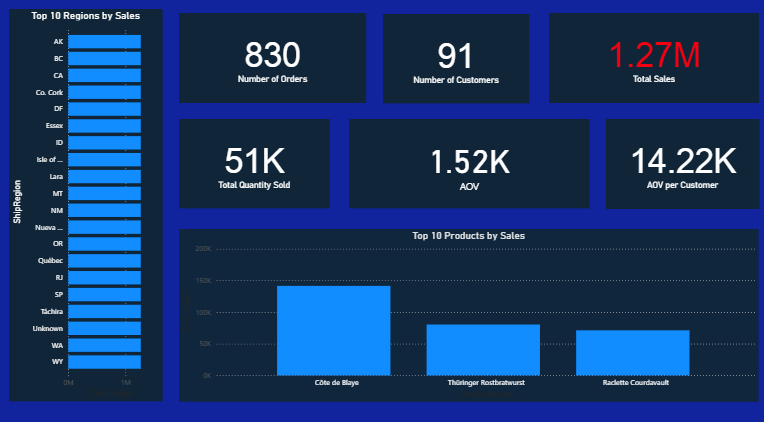

This screenshot's page, from the dashboard's own definition file:
{"tool":"powerbi","page":{"name":"KPIs","canvas":[1280,720],"ordinal":0},"visuals":[{"type":"card","fields":{"Values":["OrdersDetails.Total Sales"]},"box":[916.6,30.2,349.9,149.6],"z":0},{"type":"card","fields":{"Values":["Orders.Total Quantity Sold"]},"box":[300.3,206.6,251.2,148.7],"z":1000},{"type":"card","fields":{"Values":["Orders.Average Order Value"]},"box":[1010.9,206.6,255.7,150.2],"z":2000},{"type":"card","fields":{"Values":["Orders.Sales %"]},"box":[640.7,31.2,243.8,148.7],"z":3000},{"type":"card","fields":{"Values":["Orders.Estimated Profit"]},"box":[300.3,29.7,312.2,150.2],"z":4000},{"type":"clusteredColumnChart","title":"Top 10 Products by Sales","fields":{"Category":["Product.ProductName"],"Y":["OrdersDetails.Total Sales"]},"box":[300,390,966,288],"z":5000},{"type":"barChart","title":"Top 10 Regions by Sales","fields":{"Category":["Orders.ShipRegion"],"Y":["OrdersDetails.Total Sales"]},"box":[16,24,256,654],"z":6000},{"type":"card","fields":{"Values":["Categories.AOV"]},"box":[582.8,206.6,401.4,148.7],"z":6001}]}

Visuals, with their boxes in screenshot pixels (x1, y1, x2, y2), scaled from the page's 1280x720 canvas onto the 764x422 screenshot:
card - OrdersDetails.Total Sales: rect(547, 18, 756, 105)
card - Orders.Total Quantity Sold: rect(179, 121, 329, 208)
card - Orders.Average Order Value: rect(603, 121, 756, 209)
card - Orders.Sales %: rect(382, 18, 528, 105)
card - Orders.Estimated Profit: rect(179, 17, 366, 105)
"Top 10 Products by Sales" clusteredColumnChart: rect(179, 229, 756, 397)
"Top 10 Regions by Sales" barChart: rect(10, 14, 162, 397)
card - Categories.AOV: rect(348, 121, 587, 208)
